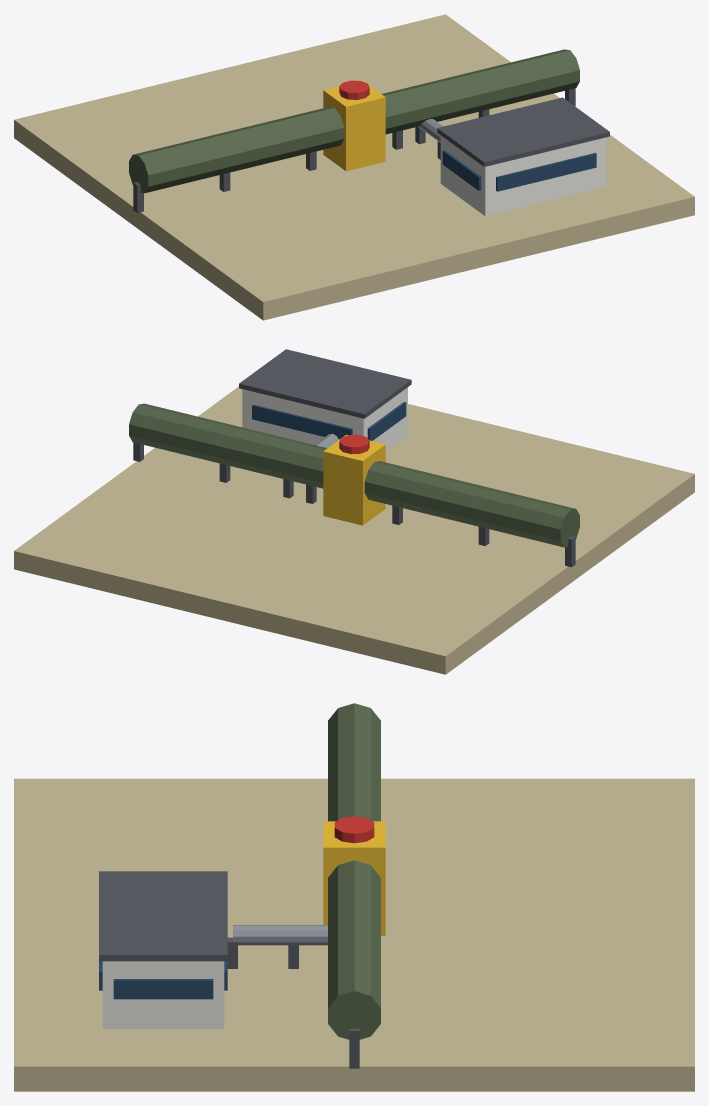
Rendered from oil_special_2.glb.
The picture shows the model from 3 angles, top to bottom: view 1: azimuth 30°, elevation 25°; view 2: azimuth 150°, elevation 25°; view 3: azimuth 270°, elevation 25°; orthographic projection. The views are drawn at different scales.
Visible parts, largest first — view 1: oil_special_2; view 2: oil_special_2; view 3: oil_special_2.
Boxes of the visible parts, x1,y1,x2,y2 form: oil_special_2: [14, 14, 694, 320]; oil_special_2: [14, 349, 694, 674]; oil_special_2: [14, 703, 694, 1091].
Bounding box in the file's own units: 1.99 × 0.39 × 1.96.
